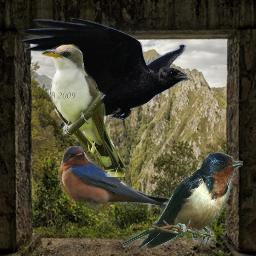Crow: (20, 16, 192, 131)
Cuckoo: (41, 43, 125, 177)
Swallow: (120, 152, 243, 249), (58, 146, 186, 212)
